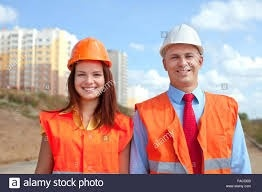helmet: (65, 35, 114, 72), (156, 22, 207, 57)
person with full safety: (129, 22, 251, 174), (36, 35, 131, 174)
safety vest: (140, 89, 235, 174), (42, 105, 126, 169)
